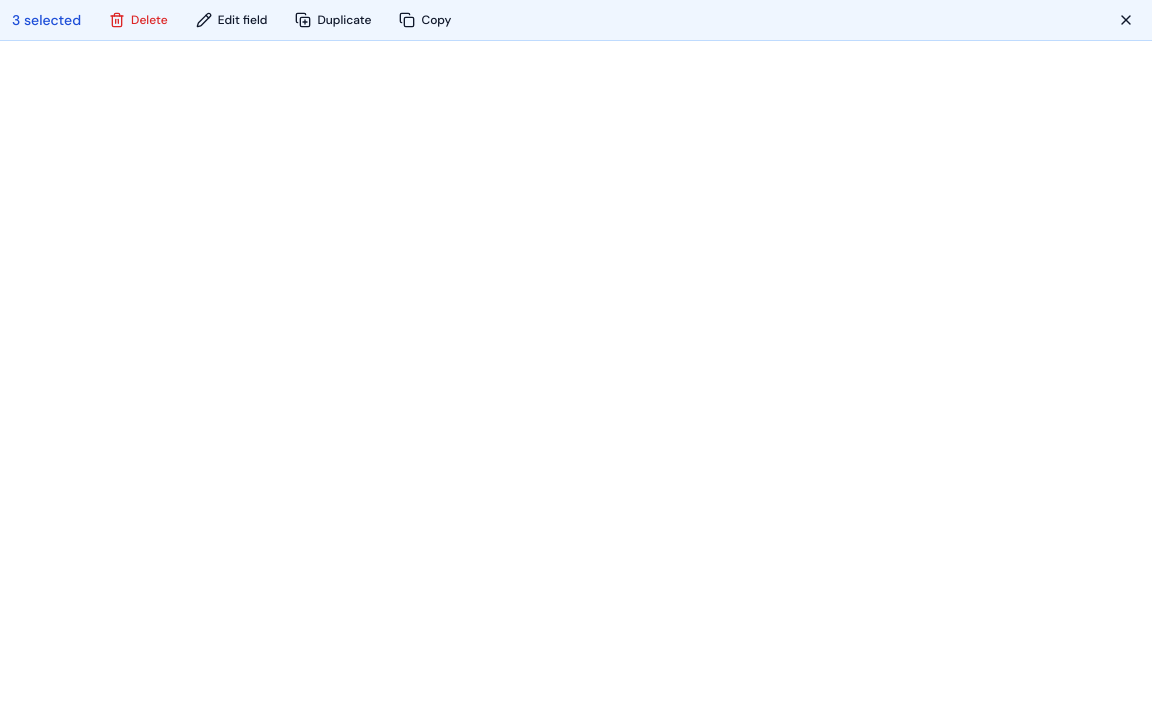
BulkActionsToolbar › shows delete confirmation dialog on delete click
Click the button "Delete": point(138, 20) [97,6,180,34]
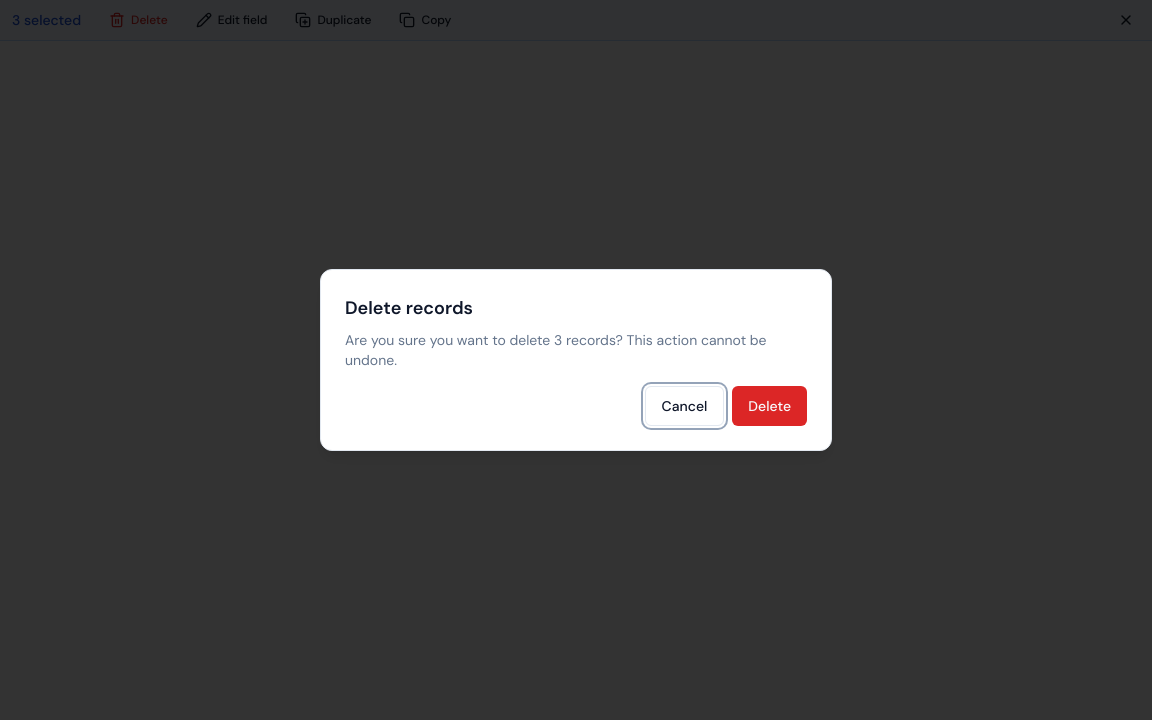
Check: the heading "Delete records" is shown, box [345,296,473,320]
